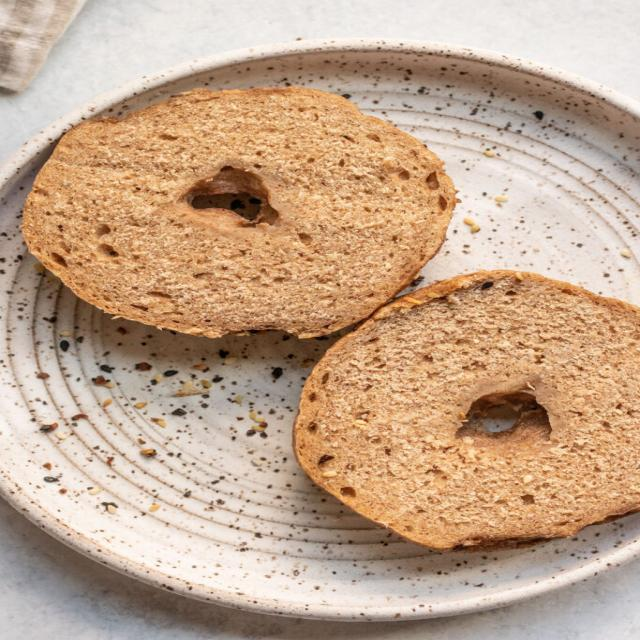Bagel: (22, 86, 457, 338), (294, 270, 639, 551)
